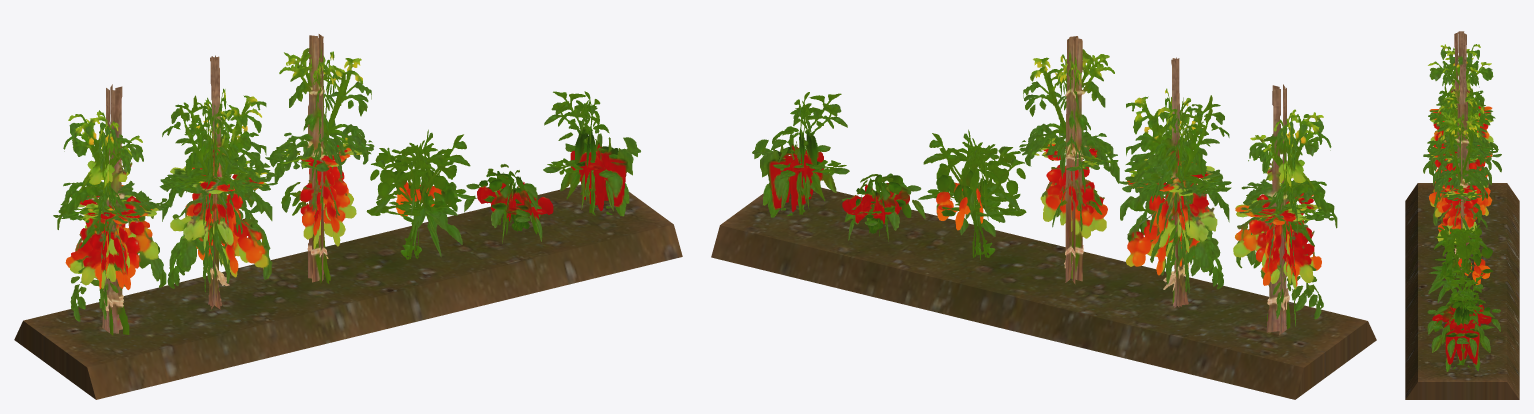
The model's file is tomato_row.glb.
3 renders of one model, left to right at view 1: azimuth 30°, elevation 25°; view 2: azimuth 150°, elevation 25°; view 3: azimuth 270°, elevation 25°, orthographic. The views are drawn at different scales.
Parts seen in each view (by area): view 1: tomato_row; view 2: tomato_row; view 3: tomato_row.
Part boxes in pixels (x1,y1,x2,y2): tomato_row: [14, 34, 682, 399]; tomato_row: [711, 36, 1376, 399]; tomato_row: [1405, 31, 1519, 399].
Bounding box in the file's own units: 3.8 × 1.69 × 0.92.
Materials: 1 (1 with a texture image).
